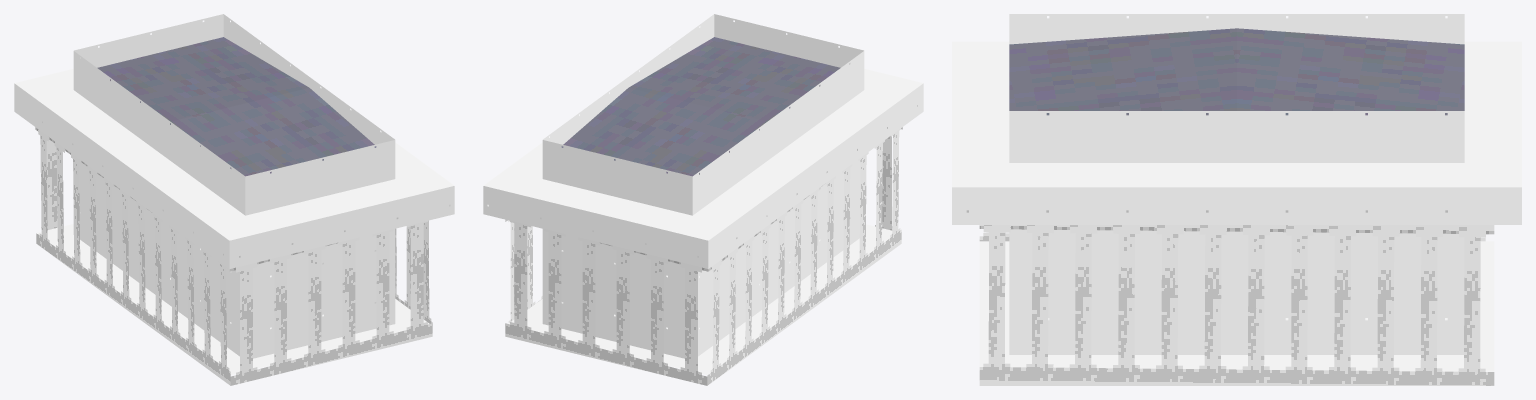
Rendered from uvmd-0135.glb.
3 views of the same model, side by side, from view 1: azimuth 30°, elevation 25°; view 2: azimuth 150°, elevation 25°; view 3: azimuth 270°, elevation 25° (orthographic). The views are drawn at different scales.
Parts seen in each view (by area): view 1: uvmd-0135; view 2: uvmd-0135; view 3: uvmd-0135.
Boxes of the visible parts, left/top/right/bottom form: uvmd-0135: left=14, top=14, right=454, bottom=385; uvmd-0135: left=483, top=14, right=923, bottom=385; uvmd-0135: left=952, top=14, right=1521, bottom=385.
Bounding box in the file's own units: 174 × 144 × 288.
Materials: 4 (4 with a texture image).
